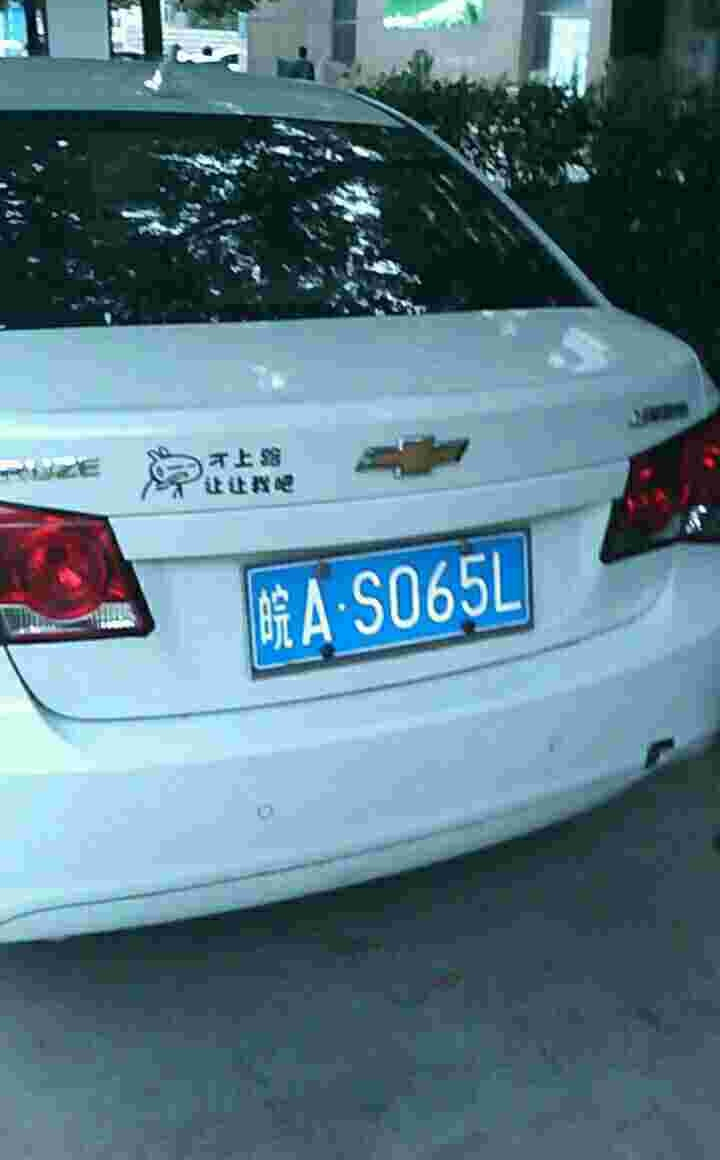license_plate: (248, 533, 534, 673)
